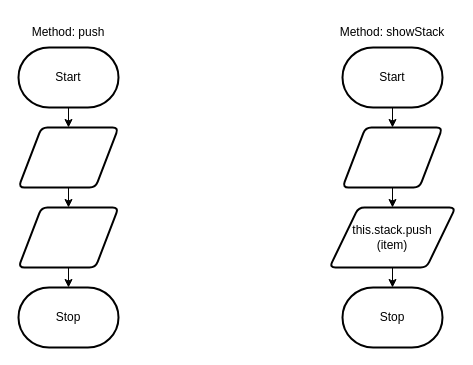
The diagram is 473 pixels wide and 365 high, and some of its shapes have lost their labels. Here are the shapes that lost their labels. From the top down, the box of each, then its label:
(17, 126, 119, 188): public showStack(): string
(341, 126, 443, 188): public push (item: number)
(17, 206, 119, 268): return this.stack.join (', ')
